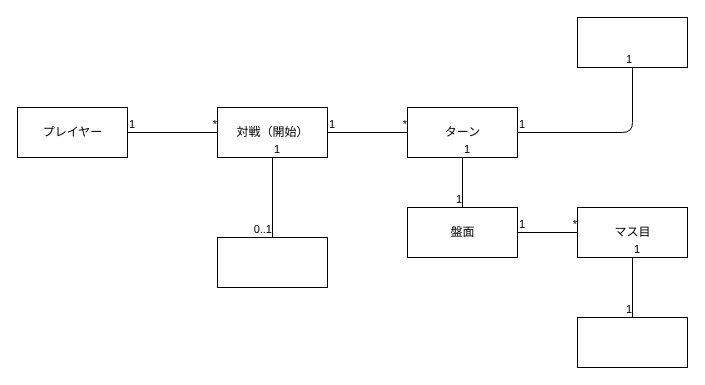
Image size: 705x385. Some labels were removed from this diagram. Each missing label, with the centre of its shape:
"コマンド" belongs at [632,42].
"対戦結果" belongs at [272,262].
"石 （空/白/黒）" belongs at [632,342].
